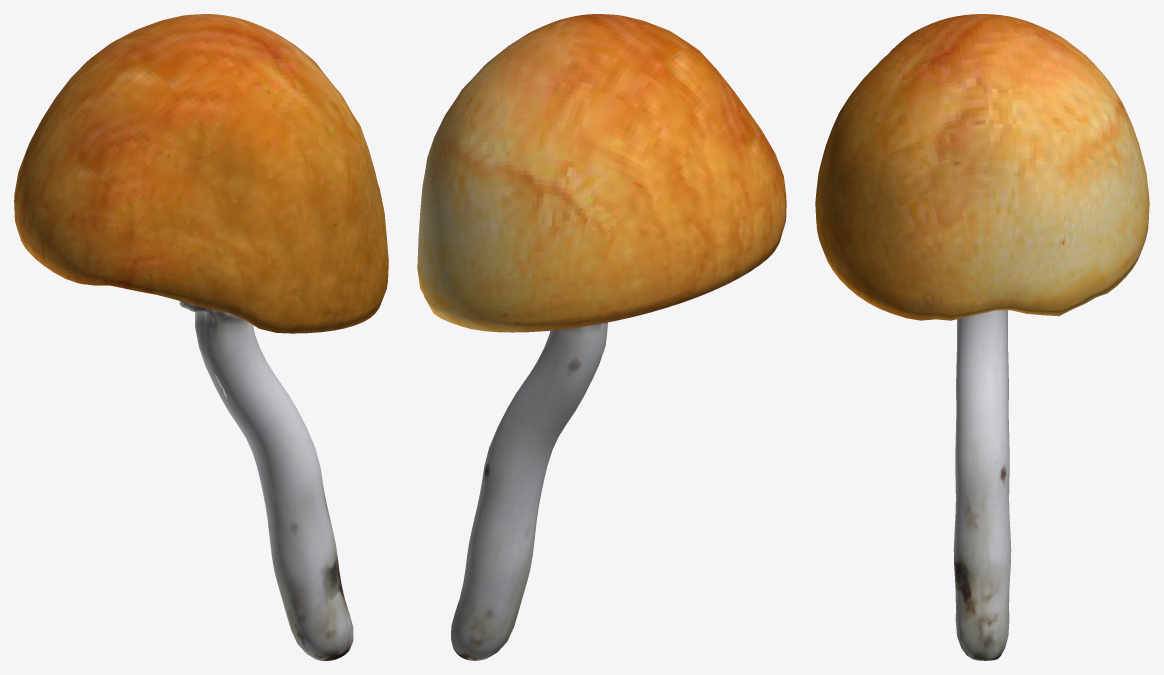
File: SENE_11.fbx
The picture shows the model from 3 angles, left to right: view 1: azimuth 30°, elevation 25°; view 2: azimuth 150°, elevation 25°; view 3: azimuth 270°, elevation 25°; orthographic projection. The views are drawn at different scales.
Parts seen in each view (by area): view 1: SENE_11; view 2: SENE_11; view 3: SENE_11.
Boxes of the visible parts, box(x1,y1,x2,y2) form: SENE_11: box(14, 14, 388, 660); SENE_11: box(417, 14, 786, 660); SENE_11: box(815, 14, 1149, 660).
Size of the model in its own units: 27.54 by 54.05 by 28.17.
1 material, 1 textured.
